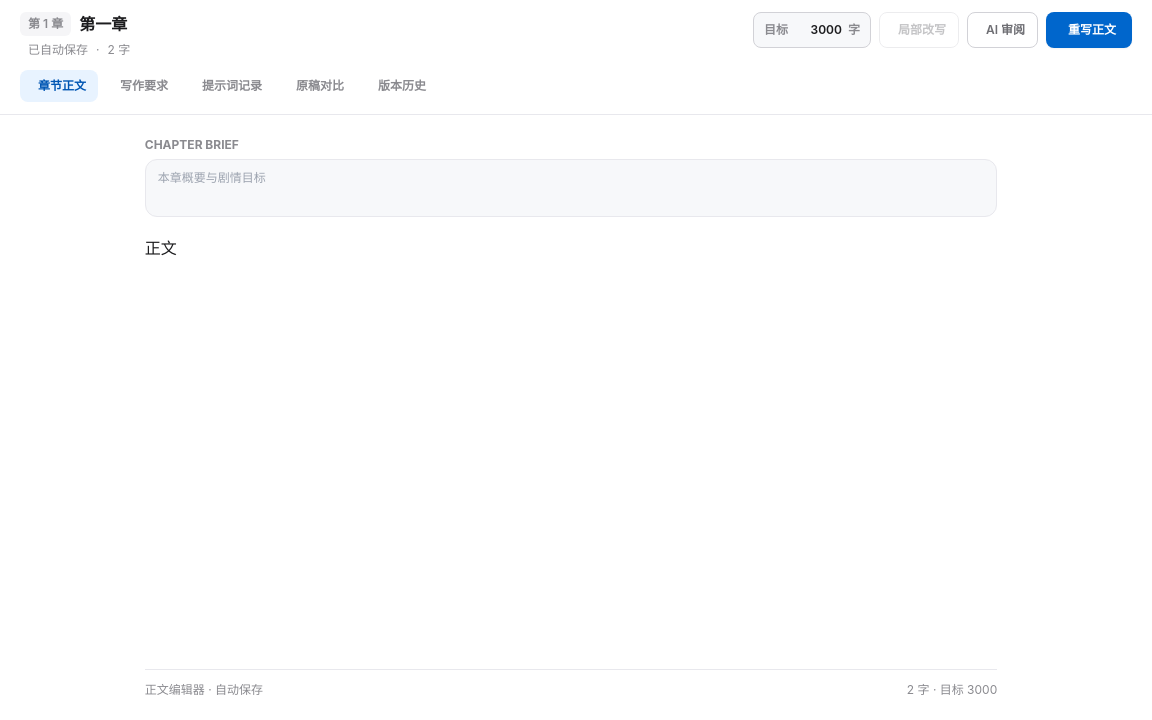
Test: NovelChapterDesk prompt audit › shows the exact system and user prompts sent for the selected chapter
Click the button "写作要求" at (141, 86), box [102,70,180,102]
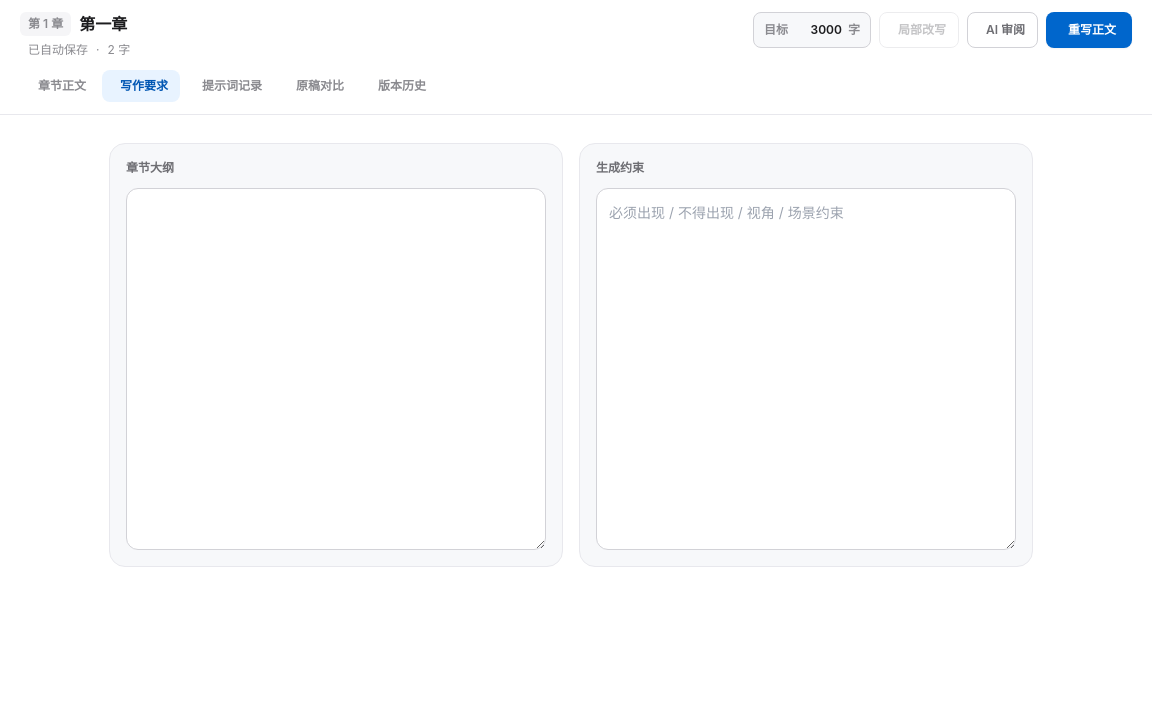
Expected: the text "章节大纲" is shown, [109,143,563,567]
Expected: the text "生成约束" is shown, [579,143,1033,567]
Click the button "提示词记录" at (229, 86), box [184,70,274,102]
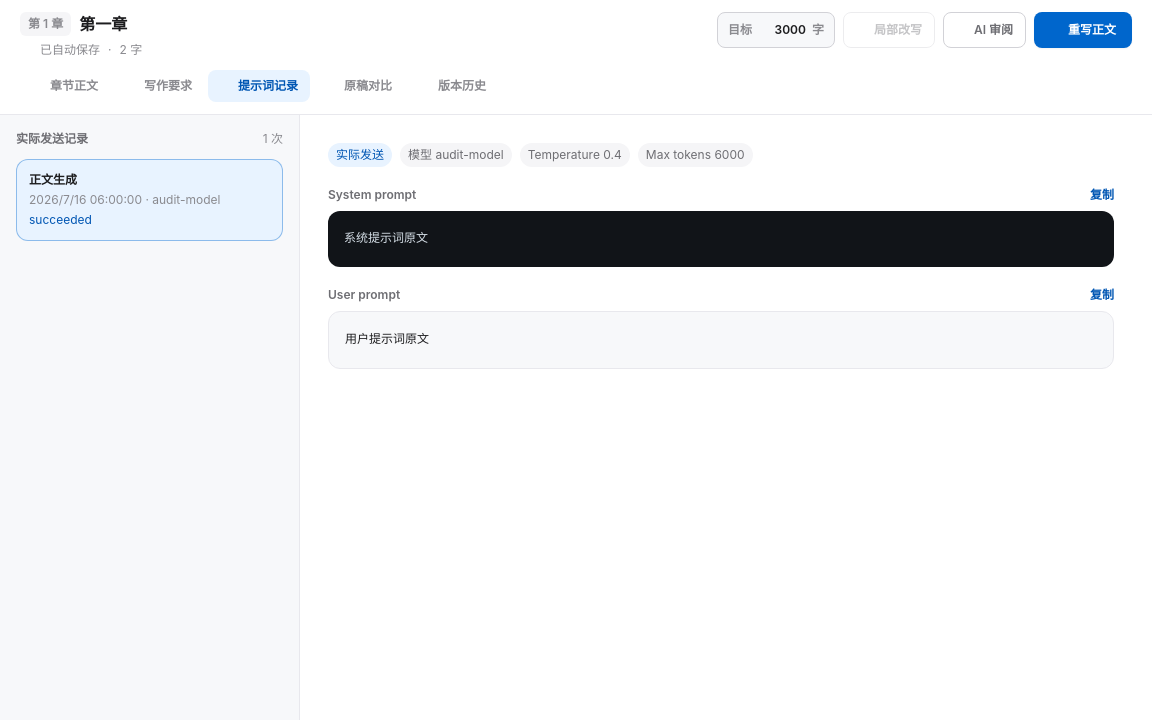
Expected: the text "系统提示词原文" is shown, [328,211,1114,267]
Expected: the text "用户提示词原文" is shown, [328,311,1114,369]
Expected: the text "实际发送" is shown, [328,143,392,167]
